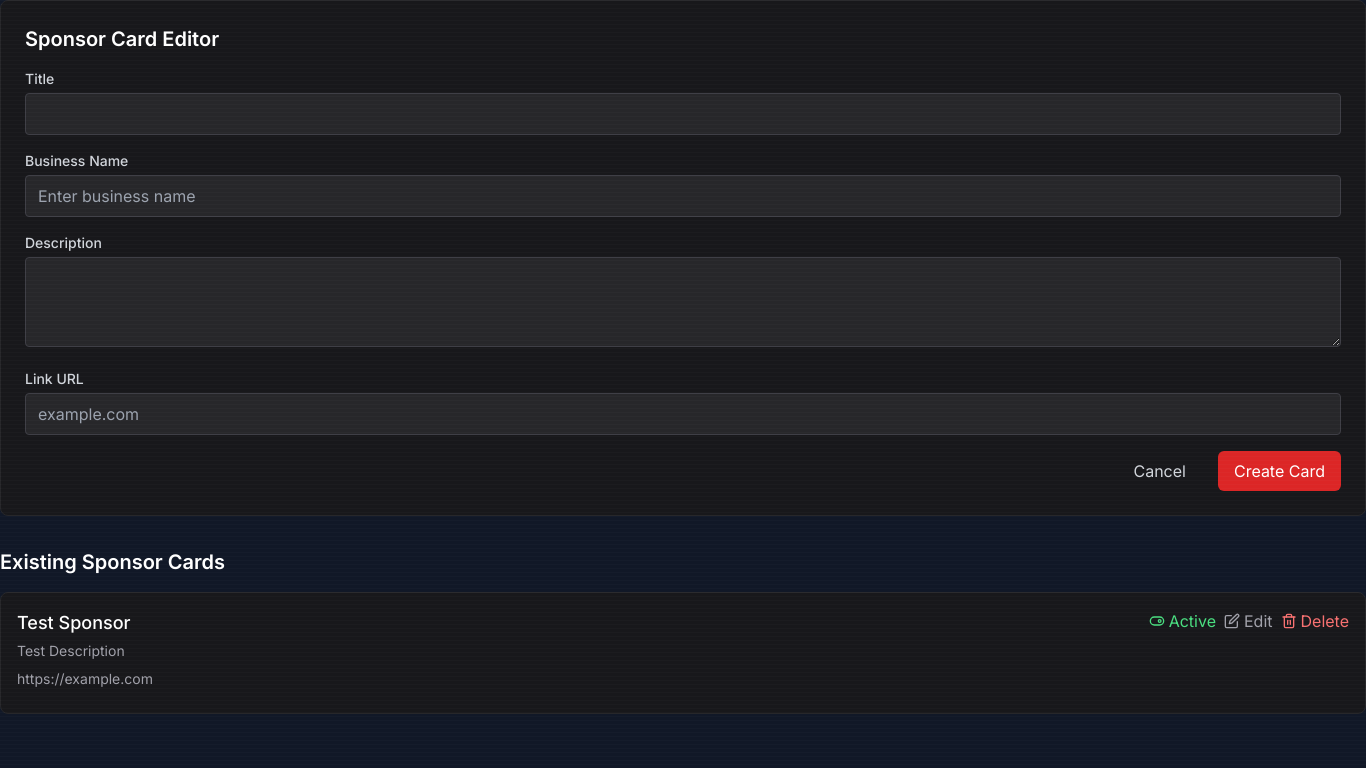
Test: SponsorCardEditor › handles sponsor card activation/deactivation
Expected: the heading "Test Sponsor" is shown, [17,612,130,633]
# Click toggle button
Click the button "Active" at {"x": 1182, "y": 621}, box [1149,609,1216,633]
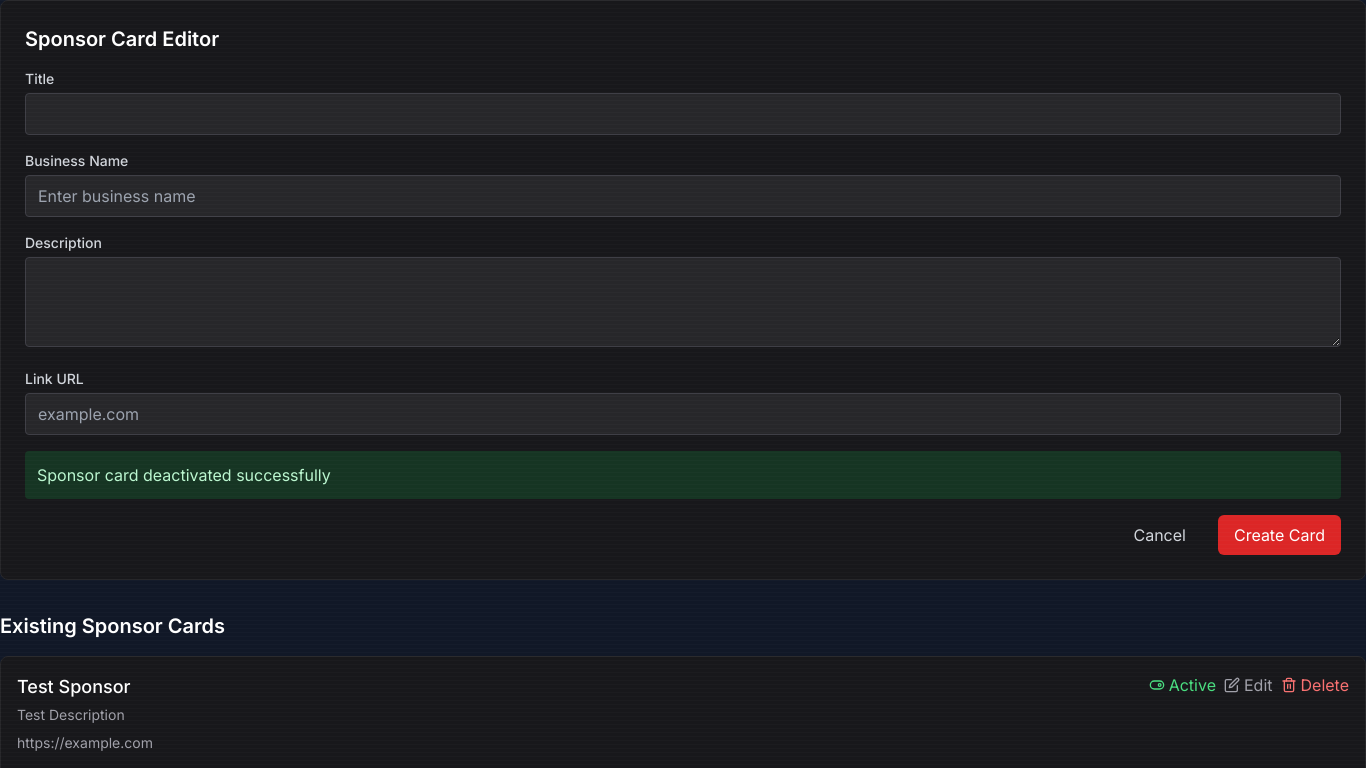
Expected: the text "Sponsor card deactivated successfully" is shown, [25,451,1341,499]
